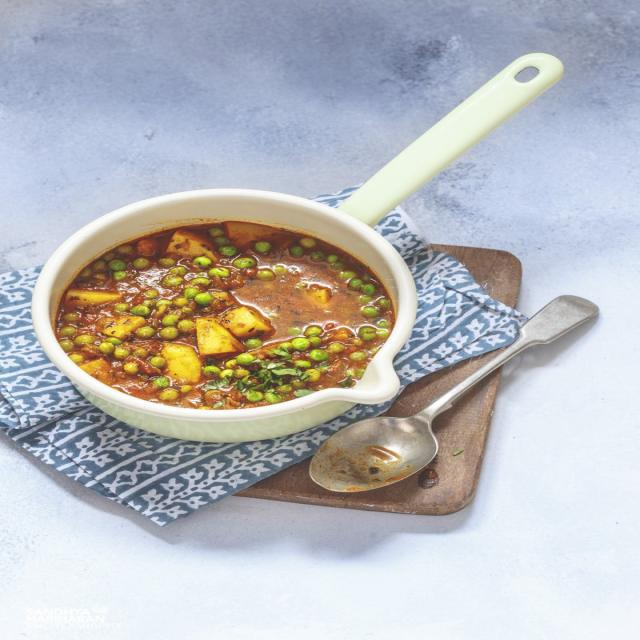aloo_matar: (58, 211, 390, 400)
